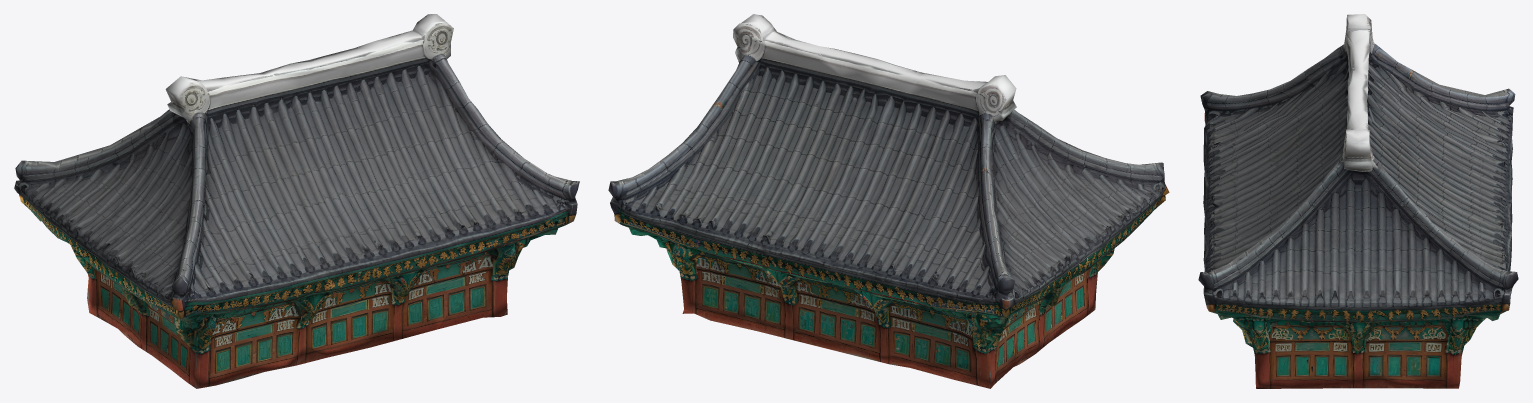
The model's file is 경복궁_지붕.glb.
3 views of the same model, side by side, from view 1: azimuth 30°, elevation 25°; view 2: azimuth 150°, elevation 25°; view 3: azimuth 270°, elevation 25° (orthographic). The views are drawn at different scales.
Visible parts, largest first — view 1: texture_mapping; view 2: texture_mapping; view 3: texture_mapping.
Part boxes in pixels (x1,y1,x2,y2): texture_mapping: (14,14,579,388); texture_mapping: (608,14,1169,388); texture_mapping: (1198,14,1518,388).
Size of the model in its own units: 0.9986 by 0.6146 by 0.7117.
Materials: 1 (1 with a texture image).
